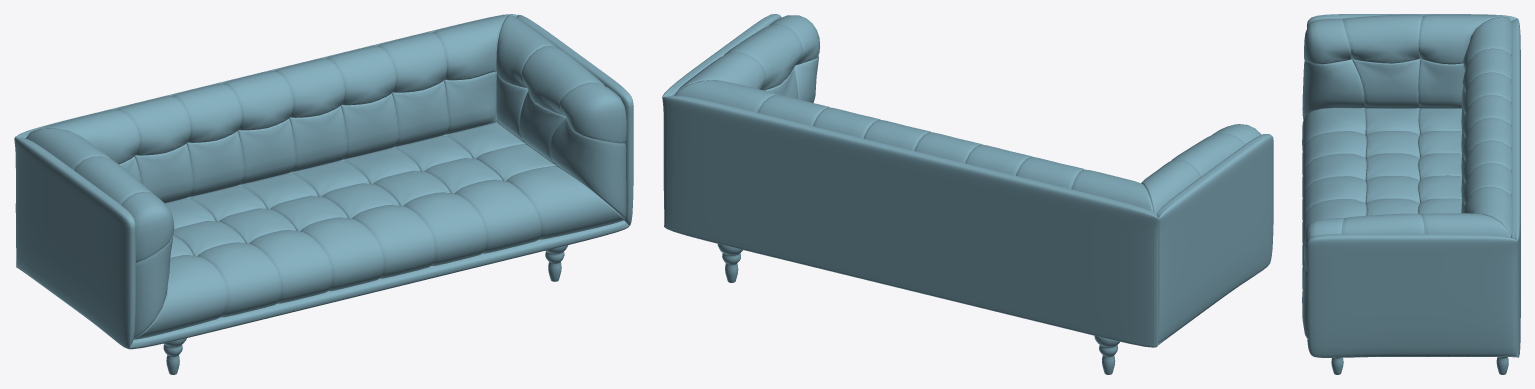
Rendered from Sofa_2.fbx.
The picture shows the model from 3 angles, left to right: view 1: azimuth 30°, elevation 25°; view 2: azimuth 150°, elevation 25°; view 3: azimuth 270°, elevation 25°; orthographic projection. The views are drawn at different scales.
Parts seen in each view (by area): view 1: Sofa; view 2: Sofa; view 3: Sofa.
Boxes of the visible parts, box(x1,y1,x2,y2) form: Sofa: box(14, 14, 633, 374); Sofa: box(662, 14, 1273, 374); Sofa: box(1302, 14, 1520, 374).
Bounding box in the file's own units: 322 × 116 × 132.
